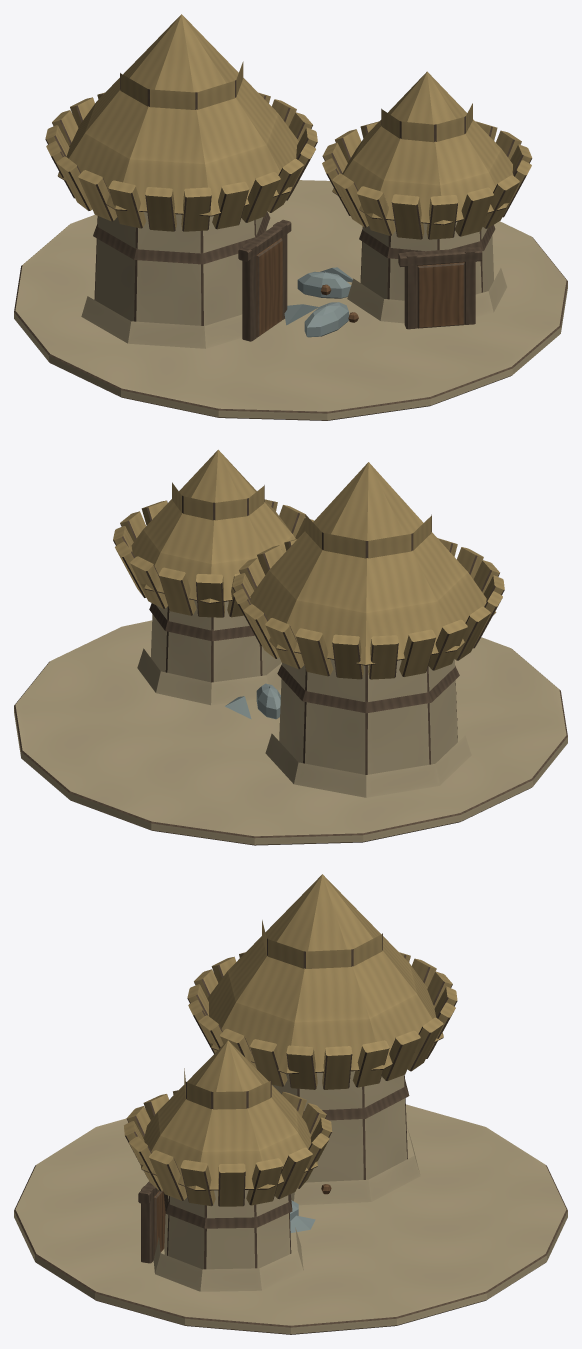
The model's file is twin-hut-yard.glb.
The picture shows the model from 3 angles, top to bottom: view 1: azimuth 30°, elevation 25°; view 2: azimuth 150°, elevation 25°; view 3: azimuth 270°, elevation 25°; orthographic projection.
Visible parts, largest first — view 1: twin-hut-yard; view 2: twin-hut-yard; view 3: twin-hut-yard.
Part boxes in pixels (bbox=[...]): twin-hut-yard: bbox=[14, 14, 567, 420]; twin-hut-yard: bbox=[14, 449, 567, 845]; twin-hut-yard: bbox=[14, 874, 567, 1334].
Bounding box in the file's own units: 0.88 × 0.5242 × 0.88.
1 material, 1 textured.
